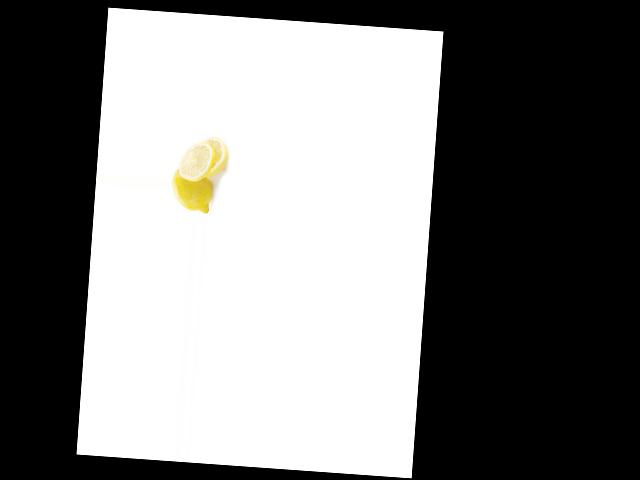lemon: (168, 165, 217, 218)
